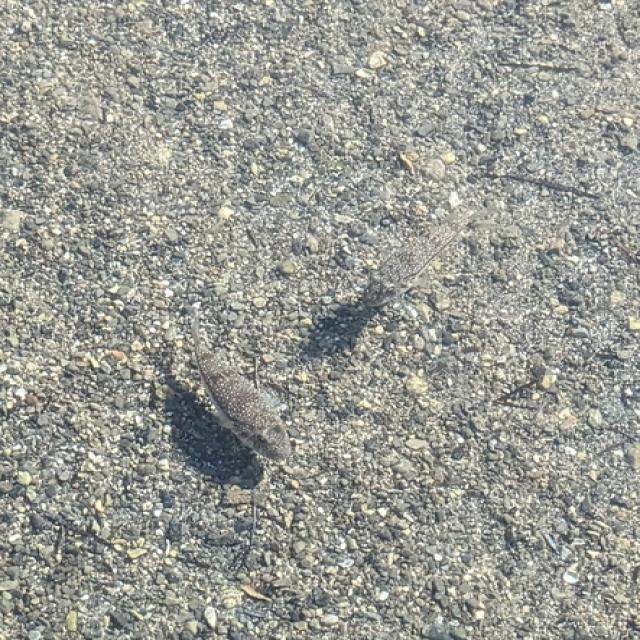Balik: (194, 316, 290, 460), (363, 215, 472, 307)
